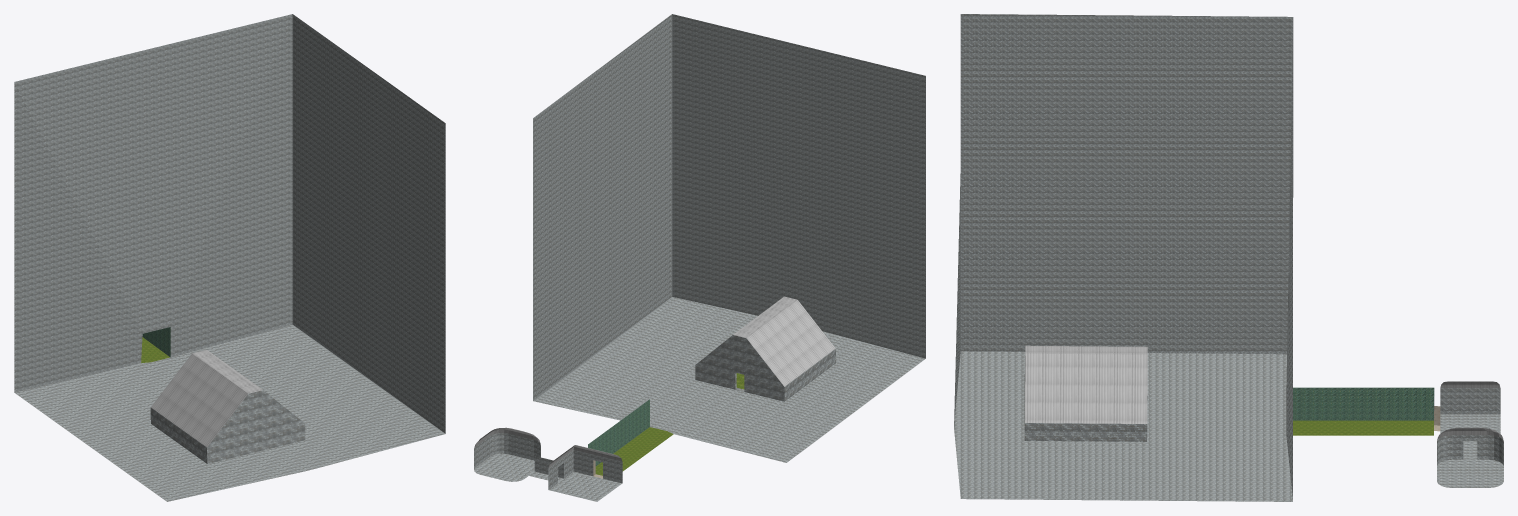
The picture shows the model from 3 angles, left to right: view 1: azimuth 30°, elevation 25°; view 2: azimuth 150°, elevation 25°; view 3: azimuth 270°, elevation 25°; orthographic projection. The views are drawn at different scales.
Parts seen in each view (by area): view 1: level-col, house-col; view 2: level-col, house-col; view 3: level-col, house-col.
Part boxes in pixels (box(x1,y1,x2,y2)): level-col: box(14, 14, 445, 501); house-col: box(150, 350, 305, 463); level-col: box(474, 14, 925, 501); house-col: box(695, 296, 835, 401); level-col: box(954, 14, 1503, 501); house-col: box(1024, 345, 1147, 441).
Size of the model in its own units: 104 by 112 by 164.
Materials: 5 (5 with a texture image).
